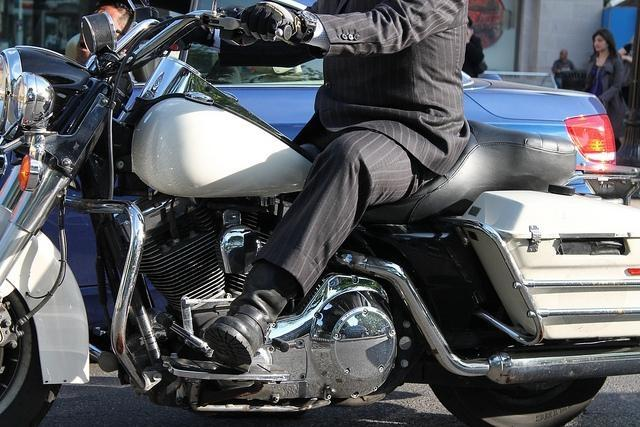car: (171, 28, 640, 204)
motorcycle: (0, 2, 640, 420)
